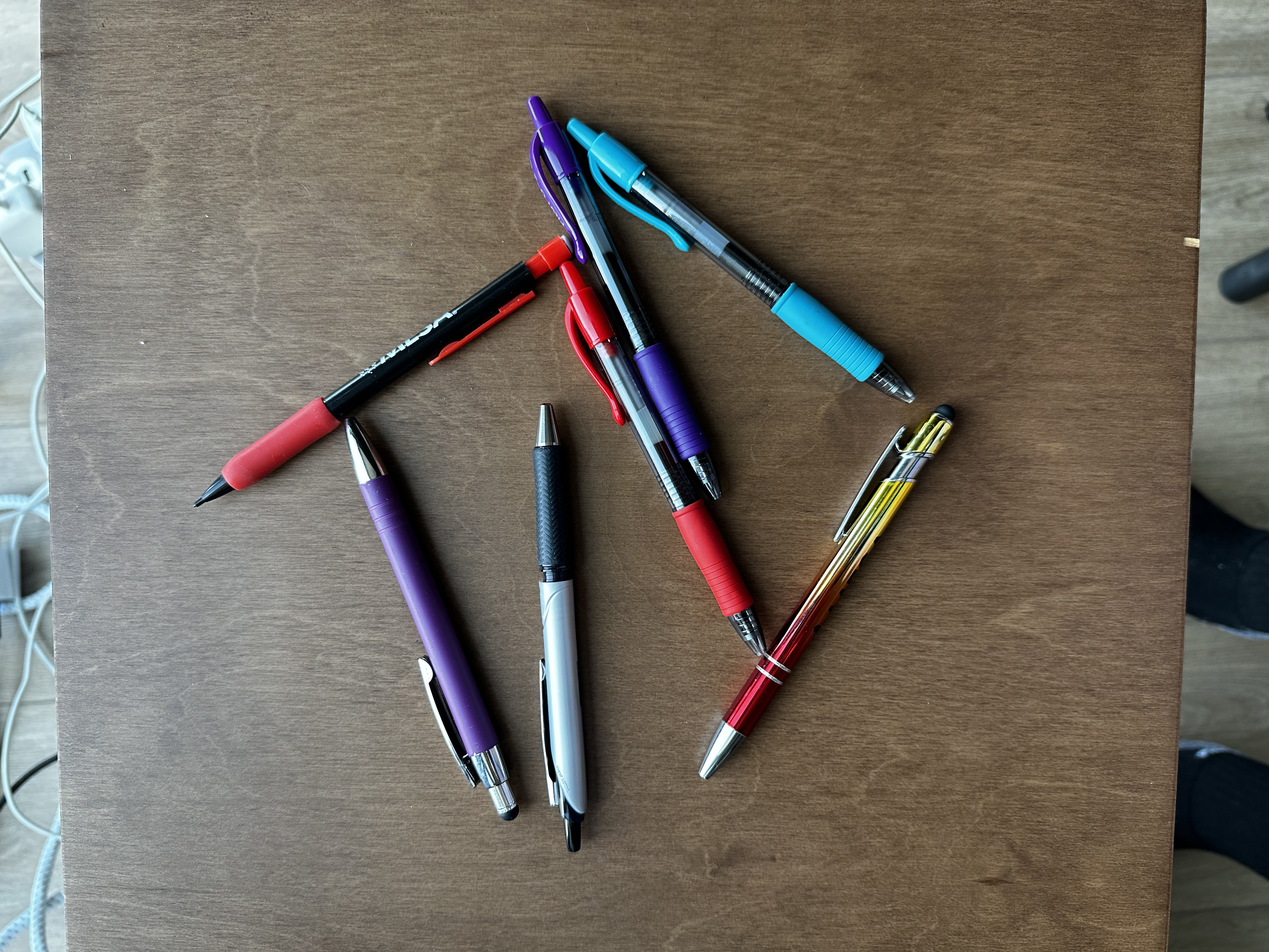Blue Pen: (568, 112, 918, 405)
Cypres Pen Purple: (342, 422, 519, 815)
MESA Multicolored pen: (697, 407, 956, 777)
Purple Pen: (521, 93, 718, 488)
Red Mechanical Pencil: (194, 226, 568, 507)
Red Pen: (555, 258, 766, 650)
Silver Pen: (532, 399, 583, 847)
